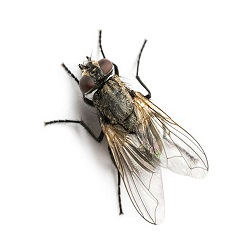phorid fly: (39, 16, 214, 235)
